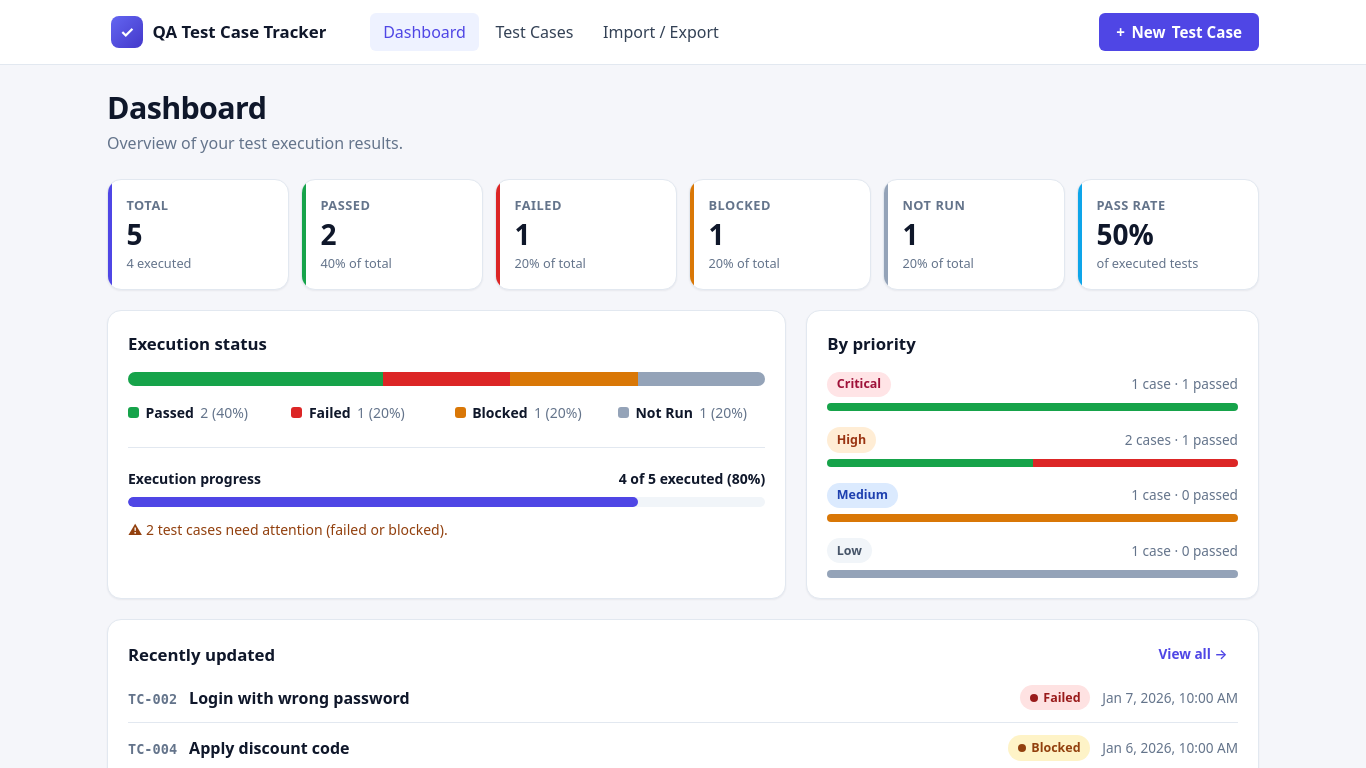
Scenario: App › blocks creation when validation fails
This screenshot has width=1366, height=768.
Click the button "+ New Test Case" at (1179, 32), box top-left (1099, 13), bottom-right (1259, 51)
(page scrolled)
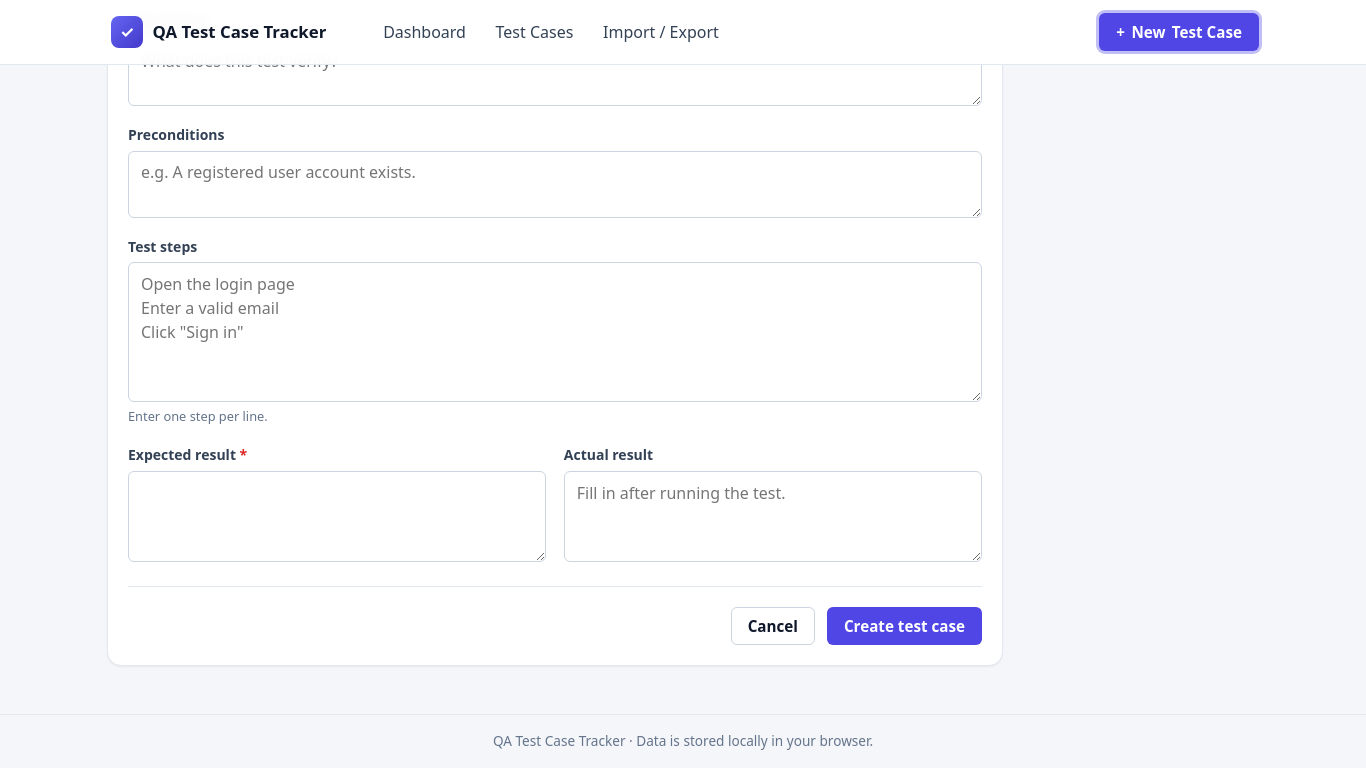
Click the button "Create test case" at (904, 626), box top-left (827, 607), bottom-right (982, 645)
(page scrolled)
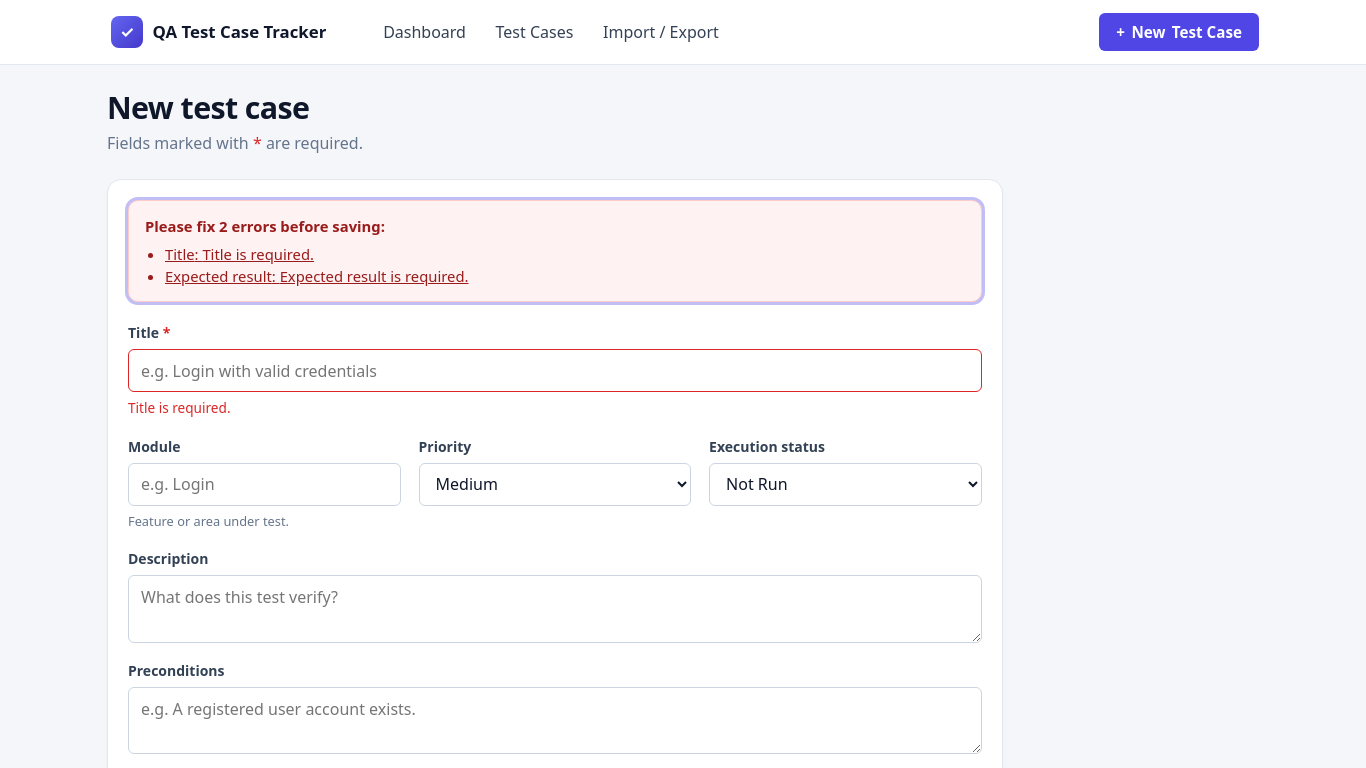
Check: the message shows "Please fix 2 errors", box top-left (128, 200), bottom-right (982, 302)
